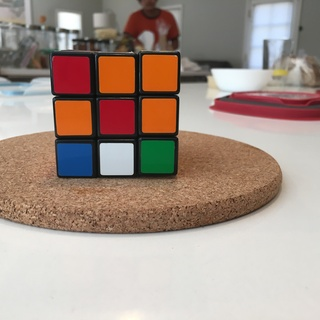face: (50, 50, 180, 177)
